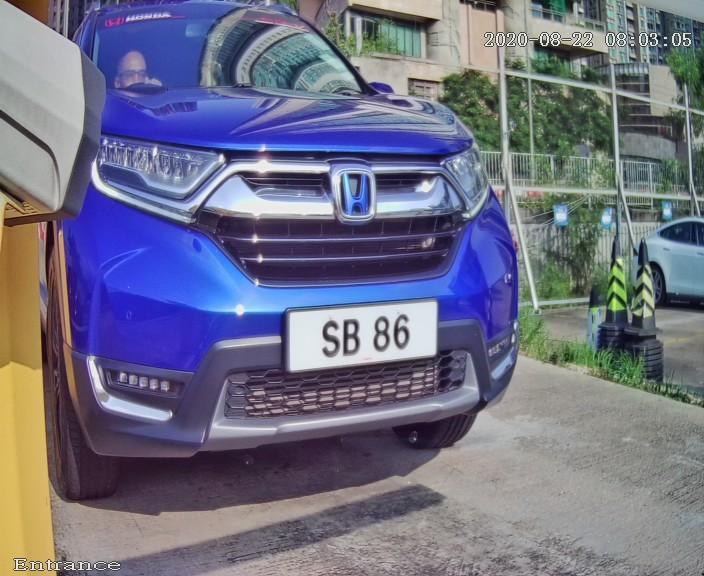Car: (7, 6, 551, 528)
License Plate: (274, 294, 444, 379)
